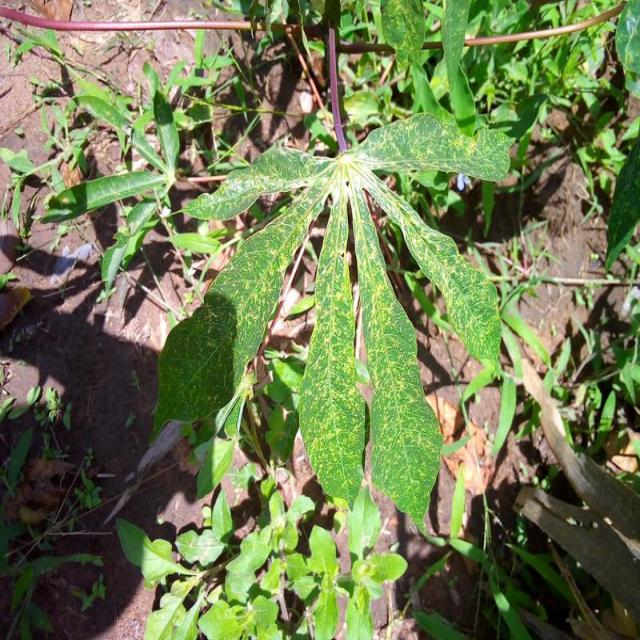cassava leaf: (148, 24, 514, 536)
